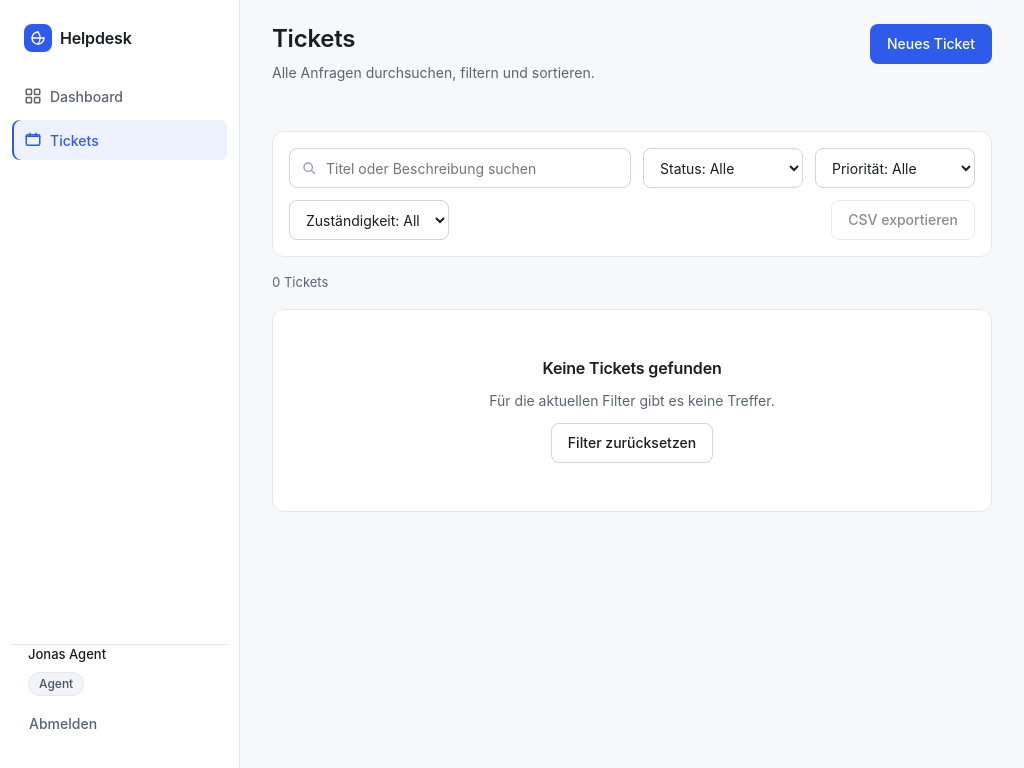
Test: App shell navigation › leads to the login page after Abmelden
This screenshot has width=1024, height=768.
Expected: the text "Jonas Agent" is shown, x1=28 y1=646 x2=106 y2=662
Click the button "Abmelden".
click(120, 724)  # box x1=28 y1=704 x2=211 y2=744
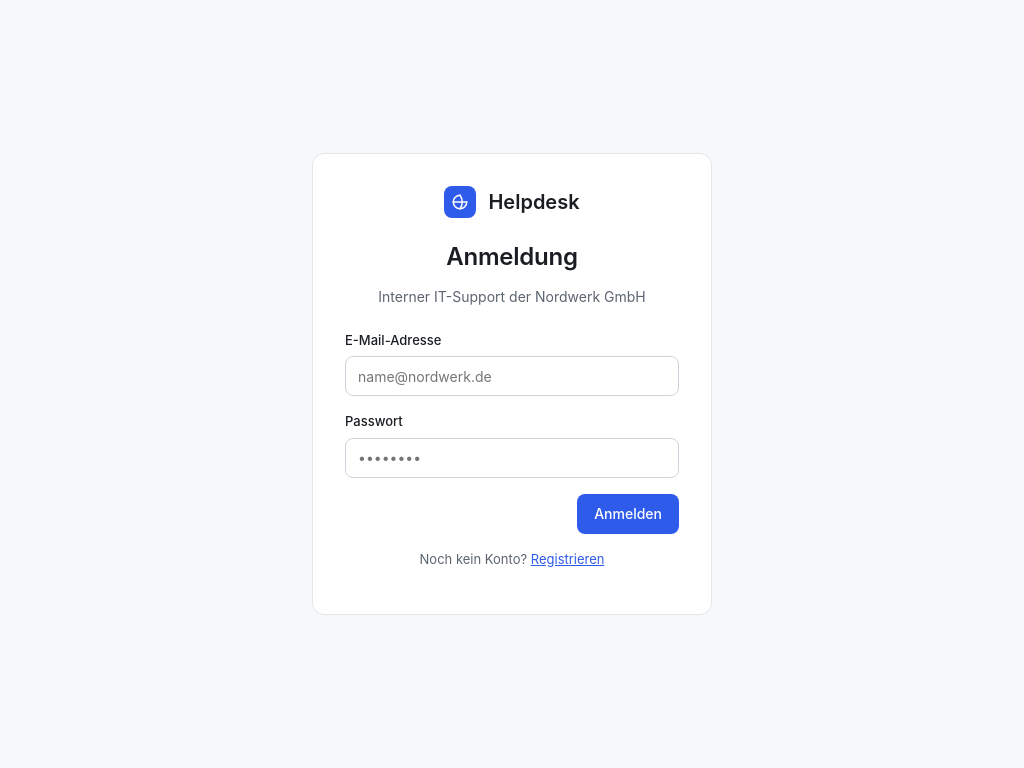
Now the element with test id "page-login" is shown
